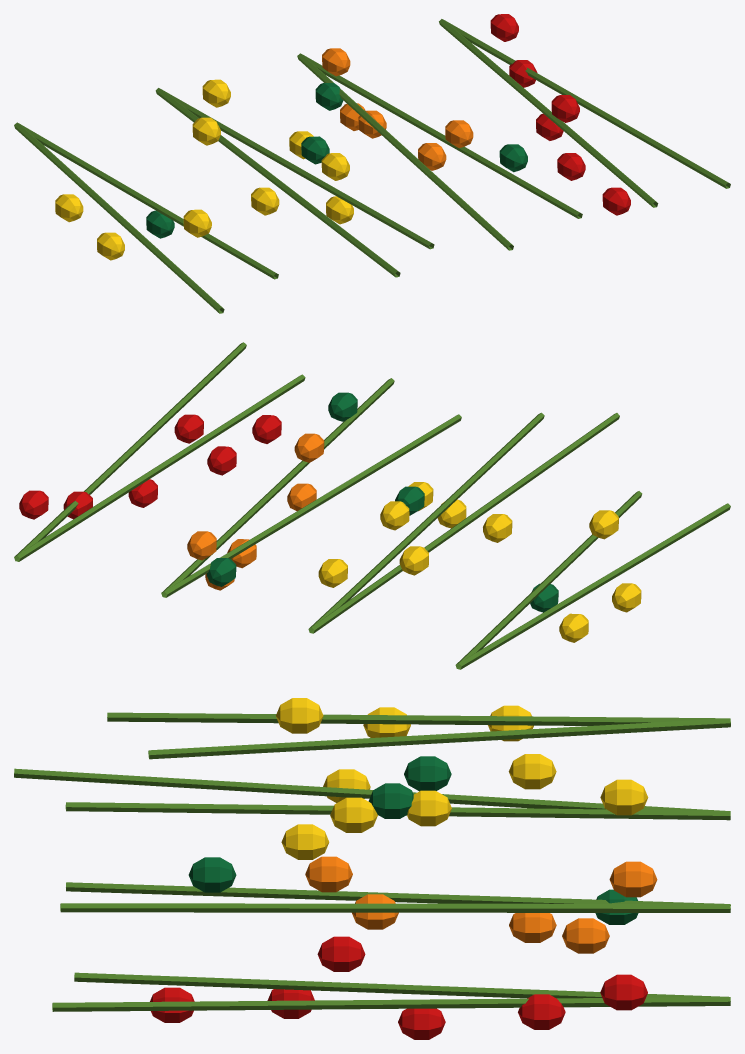
The model's file is r9c5_stems.obj.
3 views of the same model, one above another, from view 1: azimuth 30°, elevation 25°; view 2: azimuth 150°, elevation 25°; view 3: azimuth 270°, elevation 25° (orthographic). The views are drawn at different scales.
Visible parts, largest first — view 1: r9c5_stems; view 2: r9c5_stems; view 3: r9c5_stems.
Part boxes in pixels (box(x1,y1,x2,y2)): r9c5_stems: box(14, 14, 730, 313); r9c5_stems: box(14, 342, 730, 669); r9c5_stems: box(14, 698, 730, 1039).
Bounding box in the file's own units: 1.64 × 0.2547 × 1.5.
